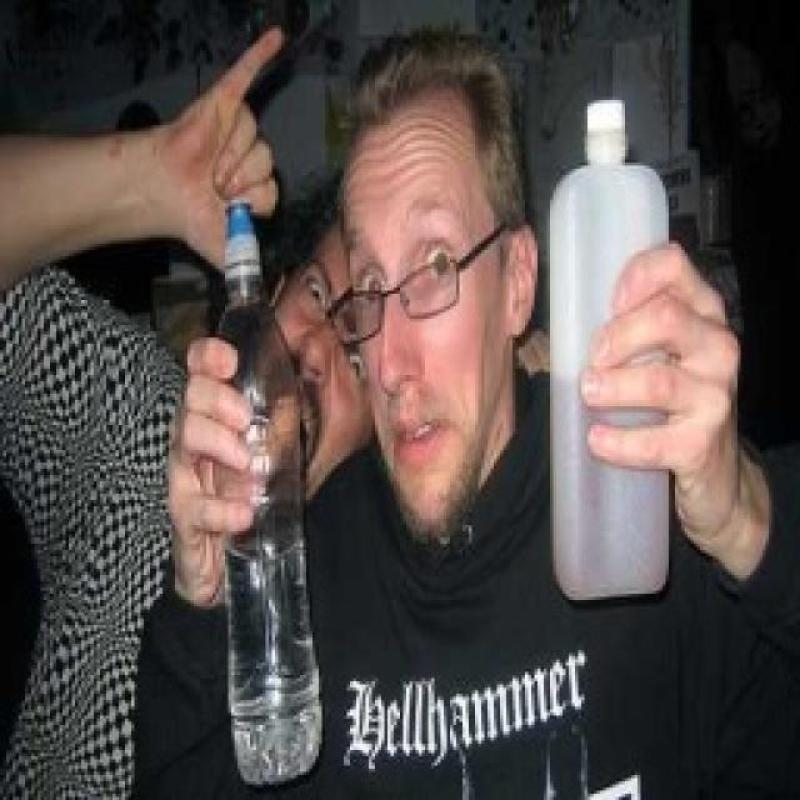botella: (206, 202, 325, 786)
